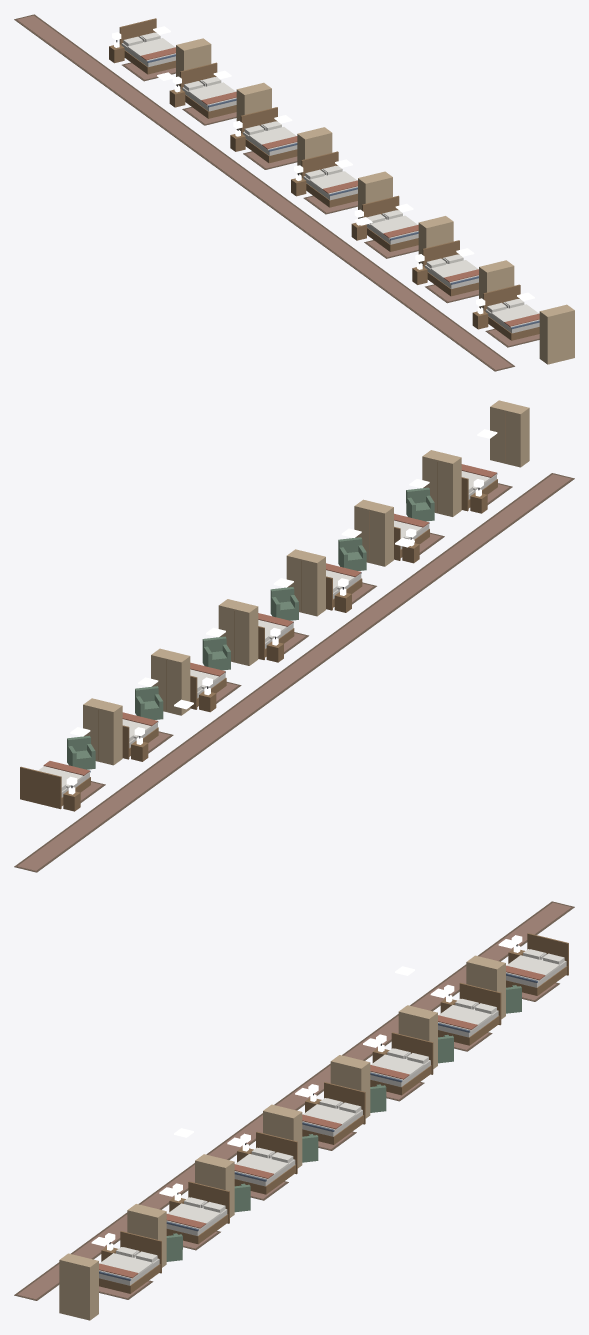
Rendered from fine-s2.glb.
3 views of the same model, one above another, from view 1: azimuth 30°, elevation 25°; view 2: azimuth 150°, elevation 25°; view 3: azimuth 330°, elevation 25° (orthographic). The views are drawn at different scales.
Visible parts, largest first — view 1: soft-s2, dresser.013, bed-frame.009, bed-frame.008, bed-frame.007, bed-frame.013, bed-frame.012, bed-frame.010, bed-frame.011, dresser.008, dresser.011, dresser.009 (+3 smaller); view 2: soft-s2, dresser.013, dresser.009, dresser.007, dresser.011, dresser.012, dresser.010, dresser.008, bed-frame.007, lounge-chair.008, lounge-chair.010, lounge-chair.009 (+3 smaller); view 3: soft-s2, dresser.013, bed-frame.013, bed-frame.009, bed-frame.008, bed-frame.010, bed-frame.011, bed-frame.012, bed-frame.007, dresser.009, dresser.010, dresser.007 (+3 smaller).
Boxes of the visible parts, left/top/right/bottom form: soft-s2: left=14, top=14, right=539, bottom=371; dresser.013: left=539, top=304, right=574, bottom=364; bed-frame.009: left=240, top=107, right=297, bottom=163; bed-frame.008: left=180, top=62, right=236, bottom=118; bed-frame.007: left=119, top=18, right=175, bottom=74; bed-frame.013: left=483, top=284, right=539, bottom=340; bed-frame.012: left=422, top=240, right=478, bottom=296; bed-frame.010: left=301, top=151, right=357, bottom=207; bed-frame.011: left=362, top=195, right=418, bottom=251; dresser.008: left=236, top=82, right=271, bottom=130; dresser.011: left=418, top=216, right=453, bottom=263; dresser.009: left=297, top=127, right=332, bottom=174; soft-s2: left=14, top=464, right=574, bottom=872; dresser.013: left=490, top=400, right=529, bottom=467; dresser.009: left=218, top=599, right=258, bottom=665; dresser.007: left=83, top=698, right=122, bottom=765; dresser.011: left=354, top=499, right=393, bottom=566; dresser.012: left=422, top=450, right=461, bottom=516; dresser.010: left=286, top=549, right=325, bottom=616; dresser.008: left=151, top=648, right=190, bottom=715; bed-frame.007: left=20, top=766, right=90, bottom=809; lounge-chair.008: left=202, top=636, right=230, bottom=670; lounge-chair.010: left=338, top=537, right=366, bottom=570; lounge-chair.009: left=270, top=587, right=298, bottom=620; soft-s2: left=14, top=901, right=574, bottom=1300; dresser.013: left=59, top=1253, right=98, bottom=1320; bed-frame.013: left=99, top=1231, right=161, bottom=1293; bed-frame.009: left=370, top=1032, right=433, bottom=1095; bed-frame.008: left=438, top=982, right=501, bottom=1045; bed-frame.010: left=302, top=1082, right=365, bottom=1144; bed-frame.011: left=234, top=1131, right=297, bottom=1194; bed-frame.012: left=166, top=1181, right=229, bottom=1244; bed-frame.007: left=506, top=933, right=568, bottom=995; dresser.009: left=330, top=1055, right=370, bottom=1118; dresser.010: left=263, top=1104, right=302, bottom=1168; dresser.007: left=466, top=955, right=505, bottom=1019.
Bounding box in the file's own units: 3.55 × 2 × 37.03.
